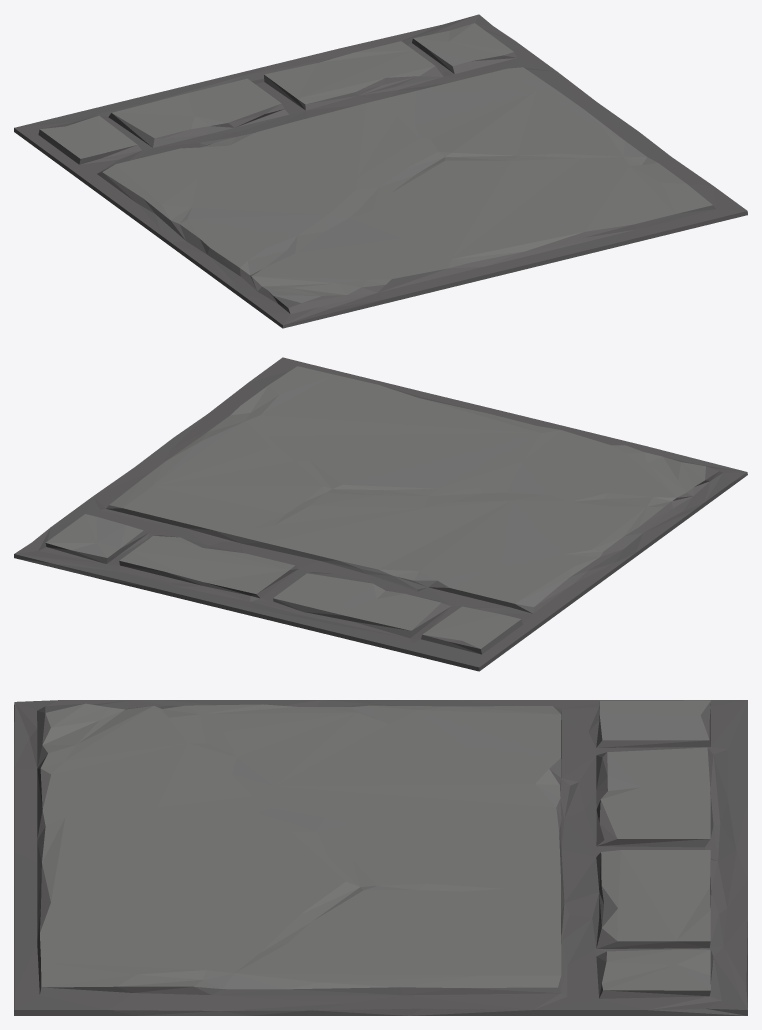
The model's file is SM_Env_Tiles_08.FBX.
3 renders of one model, top to bottom at view 1: azimuth 30°, elevation 25°; view 2: azimuth 150°, elevation 25°; view 3: azimuth 270°, elevation 25°, orthographic. The views are drawn at different scales.
Parts seen in each view (by area): view 1: SM_Env_Tiles_08; view 2: SM_Env_Tiles_08; view 3: SM_Env_Tiles_08.
Boxes of the visible parts, x1,y1,x2,y2 form: SM_Env_Tiles_08: [14, 14, 747, 328]; SM_Env_Tiles_08: [14, 357, 747, 671]; SM_Env_Tiles_08: [14, 700, 747, 1015].
Size of what is drawn, in the model's own units: 500 by 500 by 10.1.
